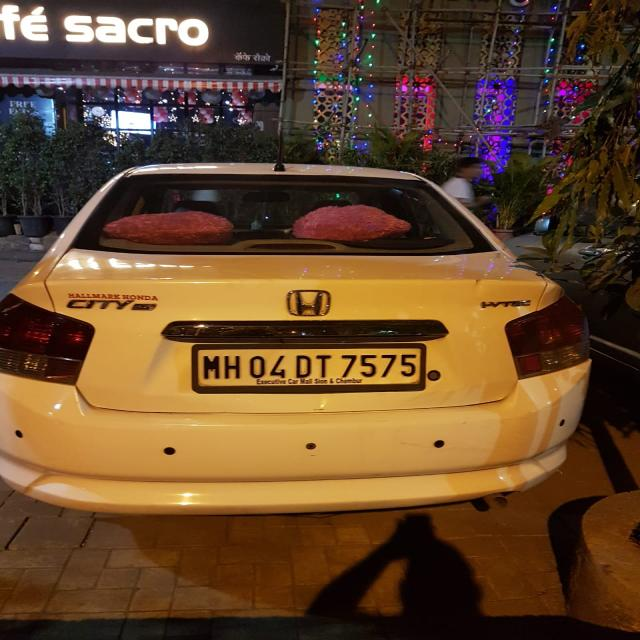Number-Plate: (198, 345, 426, 387)
